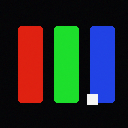1 square: (87, 94, 97, 104)
